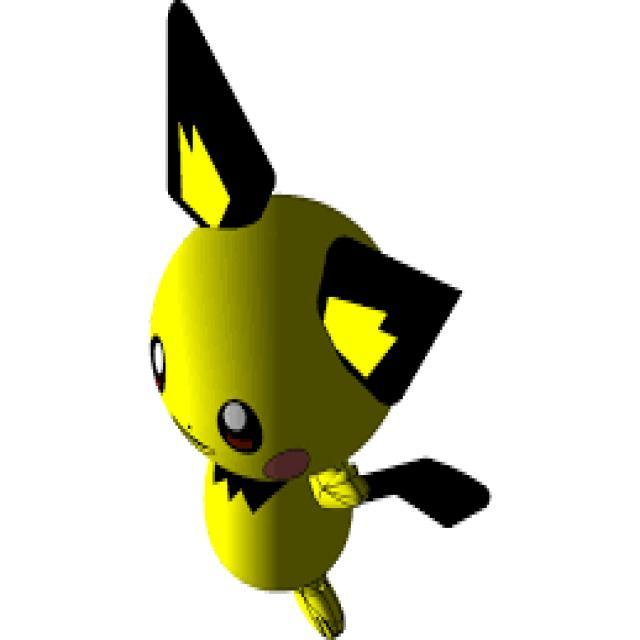pichu: (140, 0, 496, 640)
